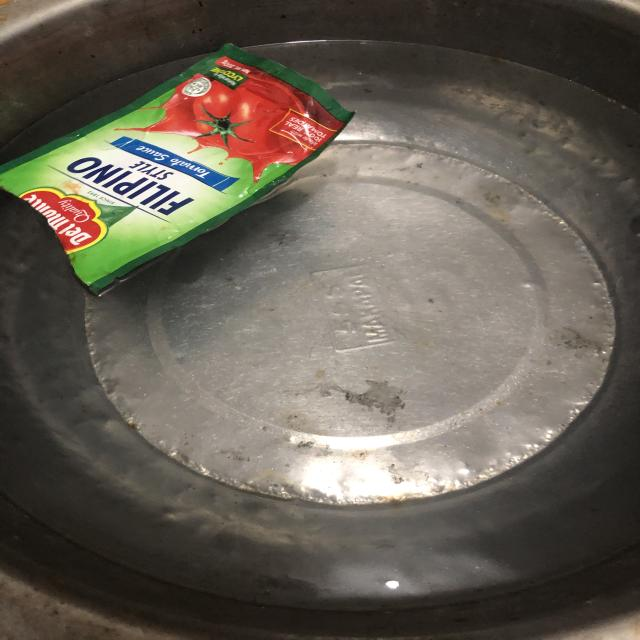Plastic Pouch: (0, 24, 385, 311)
